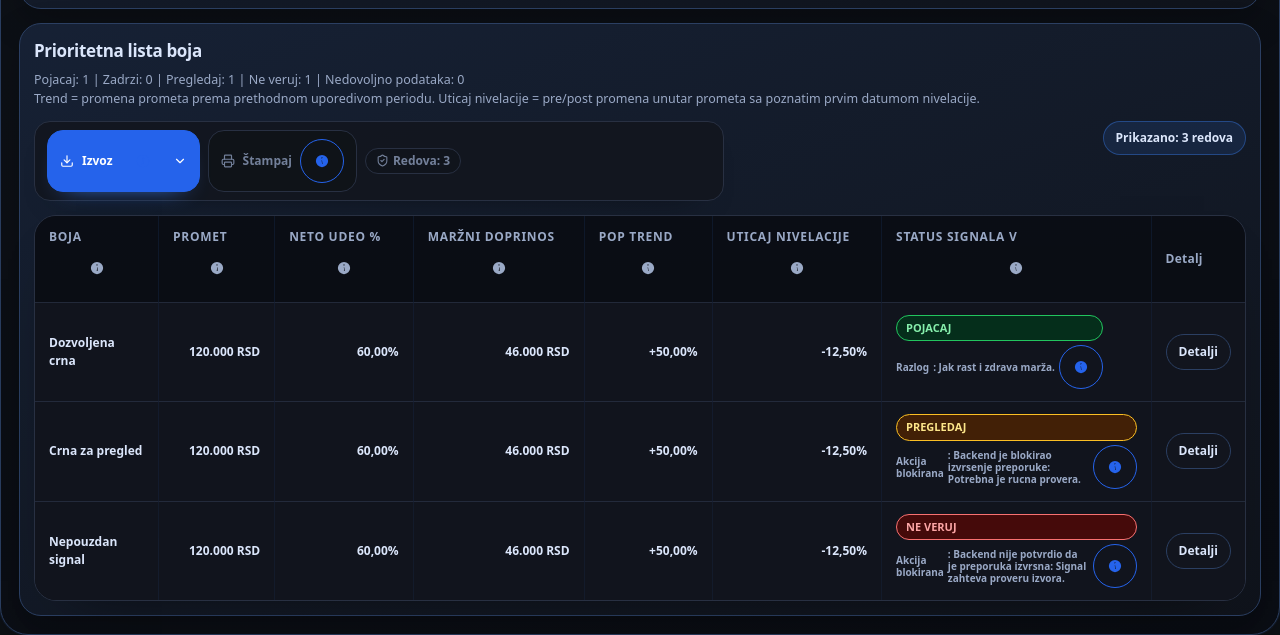
ColorSalesStatsPage premium controls › preserves gated color status identity across row, KPI and detail surfaces
(page scrolled)
expect the row that starts with "Dozvoljena crna" is shown: met, box top-left (35, 302), bottom-right (1245, 402)
expect the row that starts with "Crna za pregled" is shown: met, box top-left (35, 402), bottom-right (1245, 502)
Click the 2nd button "Detalji" at (1198, 451), box top-left (1166, 433), bottom-right (1231, 469)
(page scrolled)
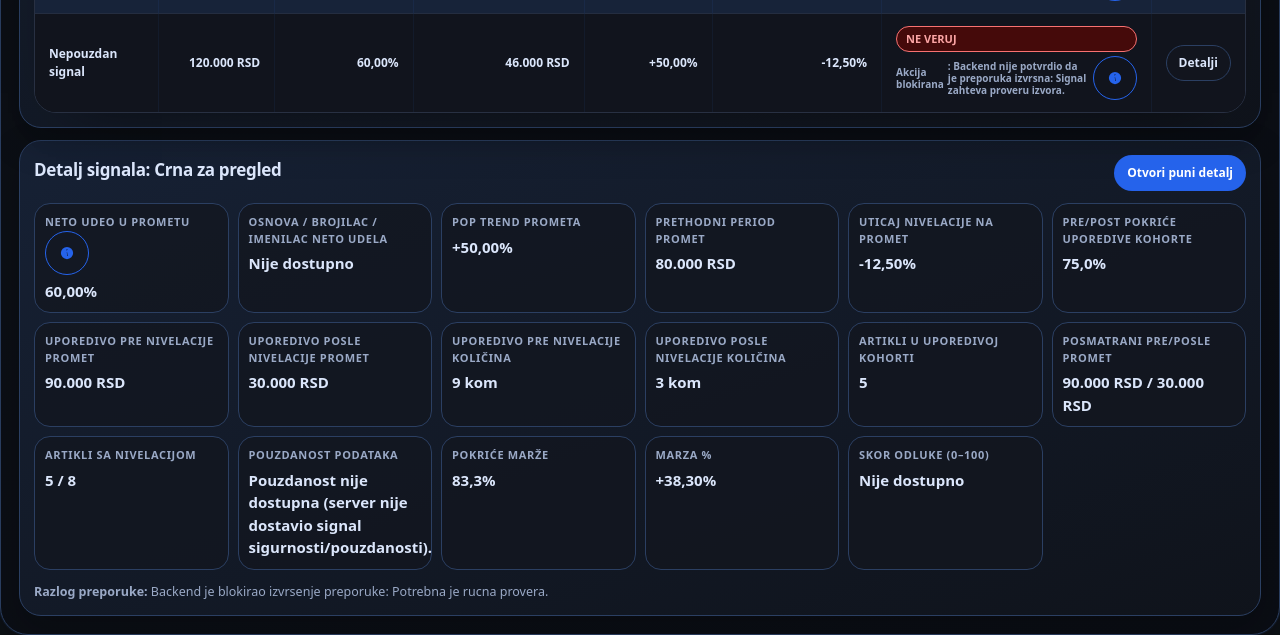
expect the heading "Detalj signala: Crna za pregled" is shown: met, box top-left (34, 157), bottom-right (281, 183)
expect the text "Pouzdanost nije dostupna (server nije dostavio signal sigurnosti/pouzdanosti)." is shown once: met, box top-left (248, 468), bottom-right (421, 558)
